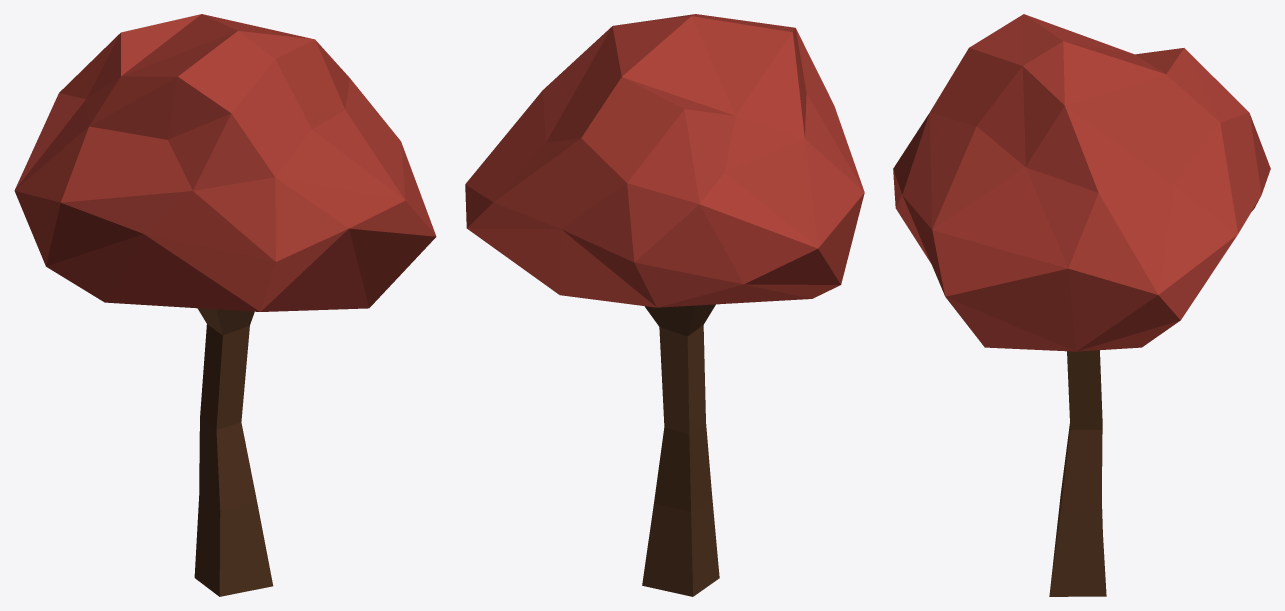
The model's file is Tree_28_Red.fbx.
3 renders of one model, left to right at view 1: azimuth 30°, elevation 25°; view 2: azimuth 150°, elevation 25°; view 3: azimuth 270°, elevation 25°, orthographic. The views are drawn at different scales.
Visible parts, largest first — view 1: Tree_28_Red_Part_1, Tree_28_Red_Part_2; view 2: Tree_28_Red_Part_1, Tree_28_Red_Part_2; view 3: Tree_28_Red_Part_1, Tree_28_Red_Part_2.
Part boxes in pixels (bbox=[...]): Tree_28_Red_Part_1: bbox=[14, 14, 436, 311]; Tree_28_Red_Part_2: bbox=[194, 308, 273, 596]; Tree_28_Red_Part_1: bbox=[465, 14, 864, 307]; Tree_28_Red_Part_2: bbox=[642, 304, 719, 596]; Tree_28_Red_Part_1: bbox=[893, 14, 1270, 351]; Tree_28_Red_Part_2: bbox=[1049, 350, 1106, 596].
Size of the model in its own units: 529 by 802 by 506.
